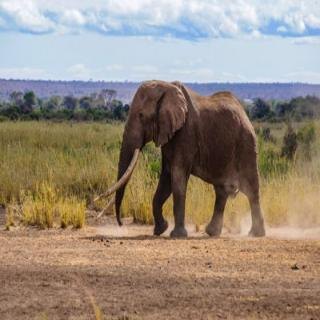Elephant: (99, 78, 268, 244)
